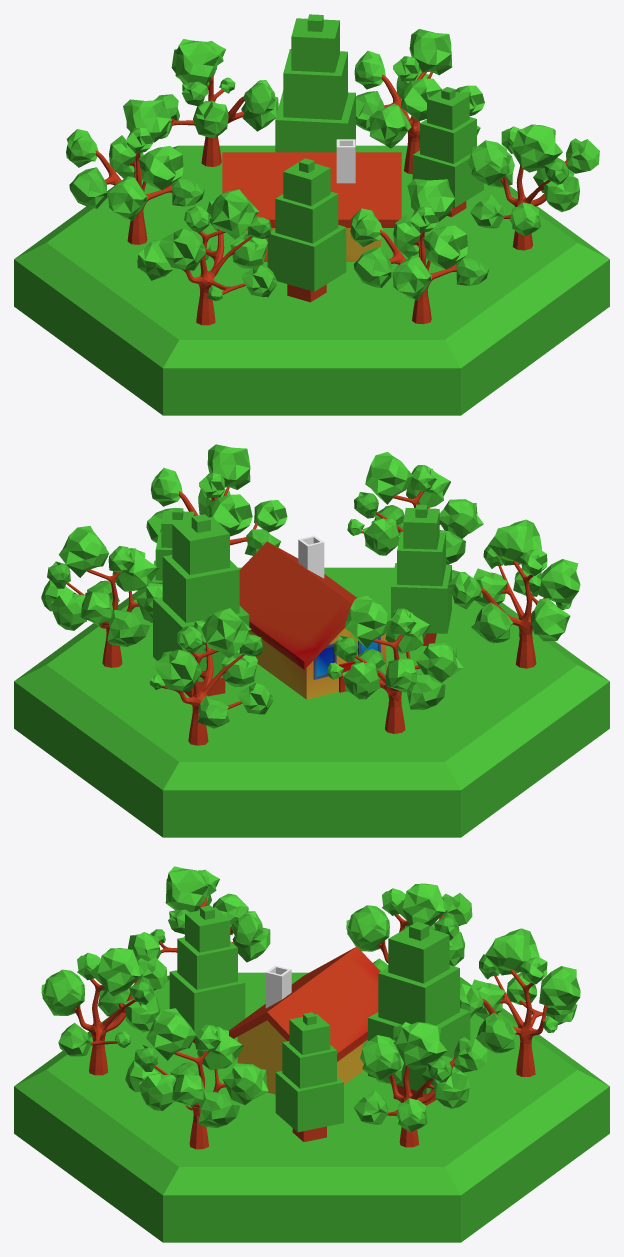
File: with_build_center_forest_prefab.fbx
3 renders of one model, top to bottom at view 1: azimuth 30°, elevation 25°; view 2: azimuth 150°, elevation 25°; view 3: azimuth 270°, elevation 25°, orthographic.
Parts seen in each view (by area): view 1: tile, Cube, Cube.012, tree_leaf2.004, tree_leaf1.007, tree_leaf1.005, tree_leaf1.002, tree_leaf2.003, Cube.003, tree_leaf1.003, Cube.002, tree_leaf2.005 (+23 smaller); view 2: tile, Cube, tree_leaf1.005, tree_leaf2.001, Cube.003, tree_leaf1.004, tree_leaf2.004, tree_leaf1.007, tree_leaf2.007, tree_leaf2.003, tree_leaf1.002, tree_leaf2.005 (+19 smaller); view 3: tile, Cube, tree_leaf1.003, Cube.003, tree_leaf2.007, tree_leaf2.001, Cube.012, Cube.022, tree_leaf2.003, tree_leaf1.004, tree_leaf1.007, tree_leaf2.002 (+21 smaller).
Boxes of the visible parts, bbox=[...] form: tile: bbox=[14, 145, 609, 415]; Cube: bbox=[222, 139, 401, 261]; Cube.012: bbox=[267, 225, 346, 291]; tree_leaf2.004: bbox=[159, 205, 276, 297]; tree_leaf1.007: bbox=[354, 29, 452, 148]; tree_leaf1.005: bbox=[66, 99, 170, 221]; tree_leaf1.002: bbox=[350, 179, 454, 300]; tree_leaf2.003: bbox=[468, 126, 579, 236]; Cube.003: bbox=[283, 49, 347, 119]; tree_leaf1.003: bbox=[488, 124, 599, 187]; Cube.002: bbox=[275, 90, 355, 152]; tree_leaf2.005: bbox=[109, 127, 183, 190]; tile: bbox=[14, 567, 609, 837]; Cube: bbox=[239, 535, 386, 699]; tree_leaf1.005: bbox=[345, 595, 463, 692]; tree_leaf2.001: bbox=[154, 626, 273, 714]; Cube.003: bbox=[162, 555, 239, 622]; tree_leaf1.004: bbox=[447, 519, 570, 641]; tree_leaf2.004: bbox=[473, 549, 580, 606]; tree_leaf1.007: bbox=[59, 526, 162, 626]; tree_leaf2.007: bbox=[41, 546, 159, 630]; tree_leaf2.003: bbox=[198, 473, 287, 536]; tree_leaf1.002: bbox=[365, 452, 483, 538]; tree_leaf2.005: bbox=[327, 608, 430, 699]; tile: bbox=[14, 972, 609, 1242]; Cube: bbox=[229, 946, 380, 1094]; tree_leaf1.003: bbox=[146, 1008, 268, 1108]; Cube.003: bbox=[378, 965, 459, 1025]; tree_leaf2.007: bbox=[360, 1022, 469, 1132]; tree_leaf2.001: bbox=[471, 957, 580, 1019]; Cube.012: bbox=[169, 970, 245, 1033]; Cube.022: bbox=[275, 1071, 343, 1132]; tree_leaf2.003: bbox=[125, 1024, 243, 1110]; tree_leaf1.004: bbox=[165, 866, 263, 945]; tree_leaf1.007: bbox=[376, 1022, 487, 1084]; tree_leaf2.002: bbox=[43, 952, 160, 1047].
Bounding box in the file's own units: 16.93 × 8.53 × 19.55.
